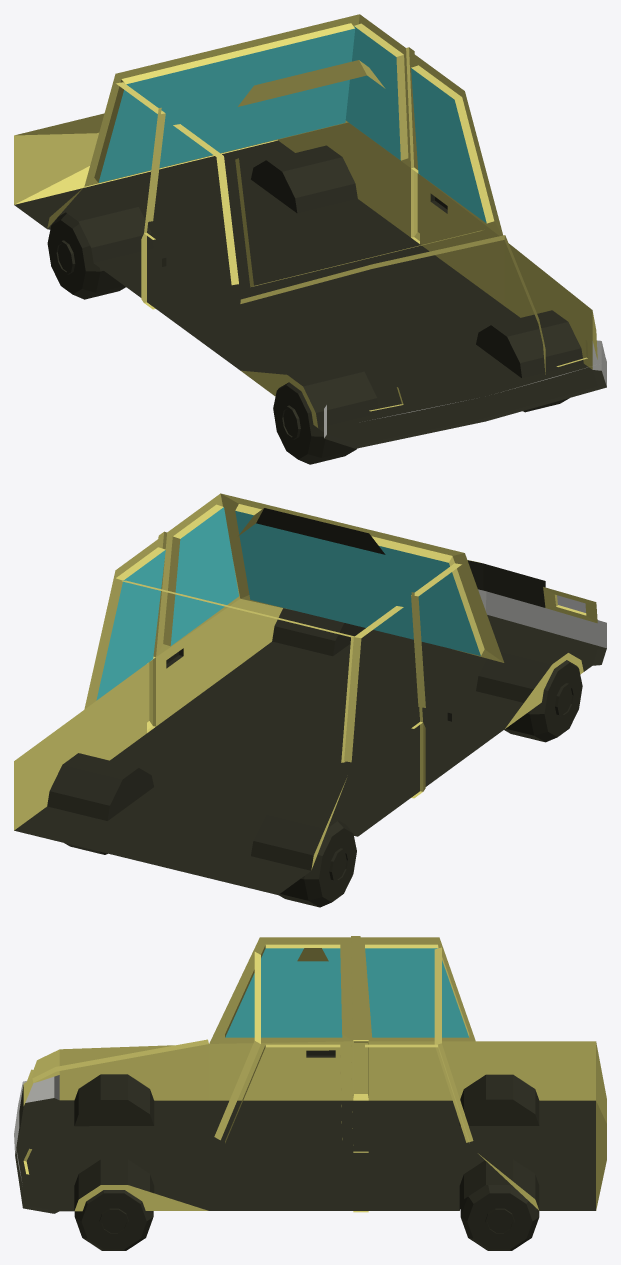
The model's file is Taxi.glb.
3 renders of one model, top to bottom at view 1: azimuth 30°, elevation 25°; view 2: azimuth 150°, elevation 25°; view 3: azimuth 270°, elevation 25°, orthographic. The views are drawn at different scales.
Visible parts, largest first — view 1: Taxi; view 2: Taxi; view 3: Taxi.
Boxes of the visible parts, x1,y1,x2,y2 form: Taxi: [14, 14, 606, 464]; Taxi: [14, 493, 606, 907]; Taxi: [14, 936, 606, 1250].
Size of the model in its own units: 1.84 by 1.69 by 3.97.
2 materials, 2 textured.
